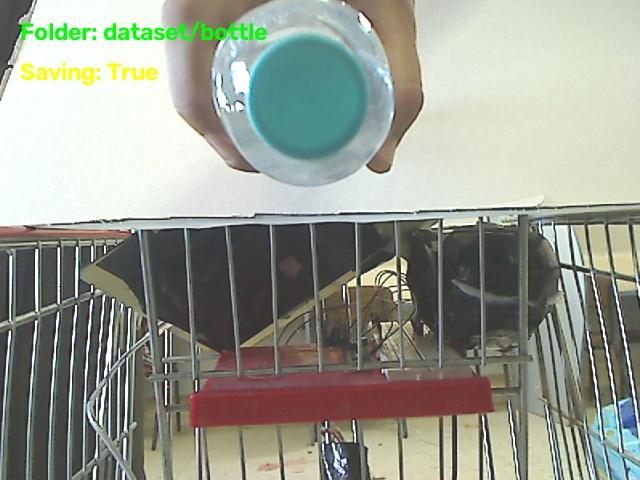can: (211, 3, 391, 184)
